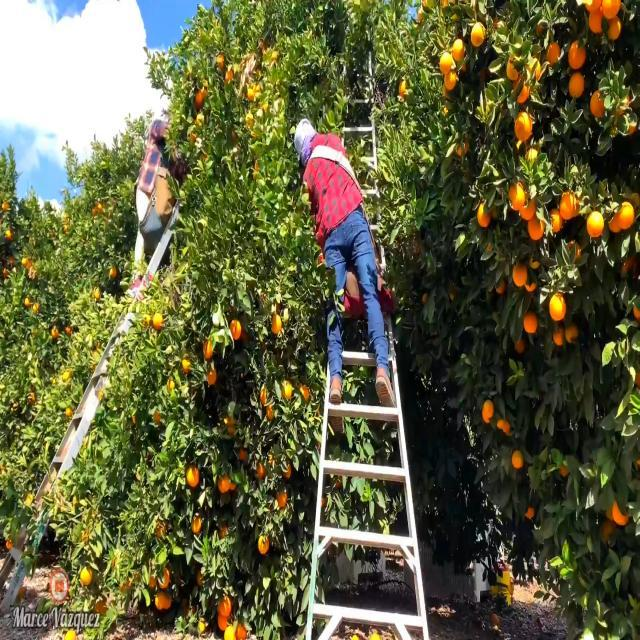Jeruk Sudah Matang: (610, 492, 633, 534), (558, 186, 578, 223), (546, 290, 568, 323), (588, 88, 608, 122), (568, 38, 588, 72), (507, 178, 524, 214), (526, 212, 546, 242), (512, 260, 530, 292), (586, 211, 605, 241), (604, 12, 624, 40), (514, 111, 532, 142), (620, 196, 635, 232), (567, 74, 586, 102), (587, 5, 605, 33), (522, 308, 538, 338), (476, 196, 490, 230), (512, 77, 530, 103), (564, 321, 581, 347), (600, 0, 625, 17), (522, 192, 536, 222), (549, 204, 563, 234), (528, 55, 542, 85), (444, 67, 458, 96), (547, 41, 562, 68), (258, 532, 274, 557), (510, 446, 524, 474), (552, 321, 566, 349), (471, 22, 486, 48), (228, 316, 243, 342), (156, 568, 172, 590), (438, 53, 453, 76), (505, 55, 520, 77), (454, 38, 467, 63), (484, 398, 497, 423), (280, 378, 294, 401), (186, 466, 201, 487), (493, 274, 506, 298), (276, 487, 290, 509), (218, 596, 232, 618), (300, 382, 314, 403), (270, 312, 283, 334), (496, 416, 509, 436), (259, 382, 271, 402), (205, 366, 217, 386), (217, 475, 229, 493), (238, 444, 248, 464), (512, 336, 524, 352), (594, 4, 595, 6)
